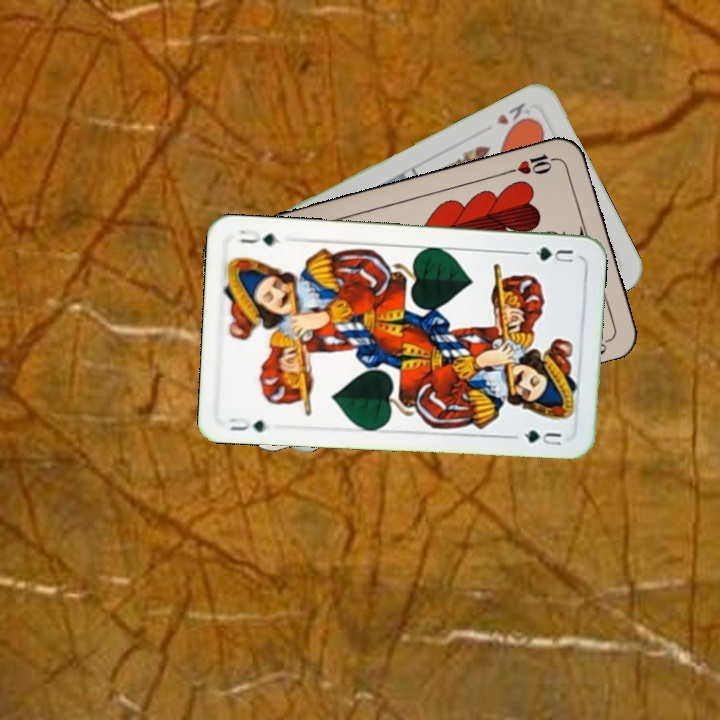GU: (521, 243, 576, 265), (224, 413, 268, 435)
H10: (503, 150, 562, 177)
HK: (492, 98, 535, 134)
